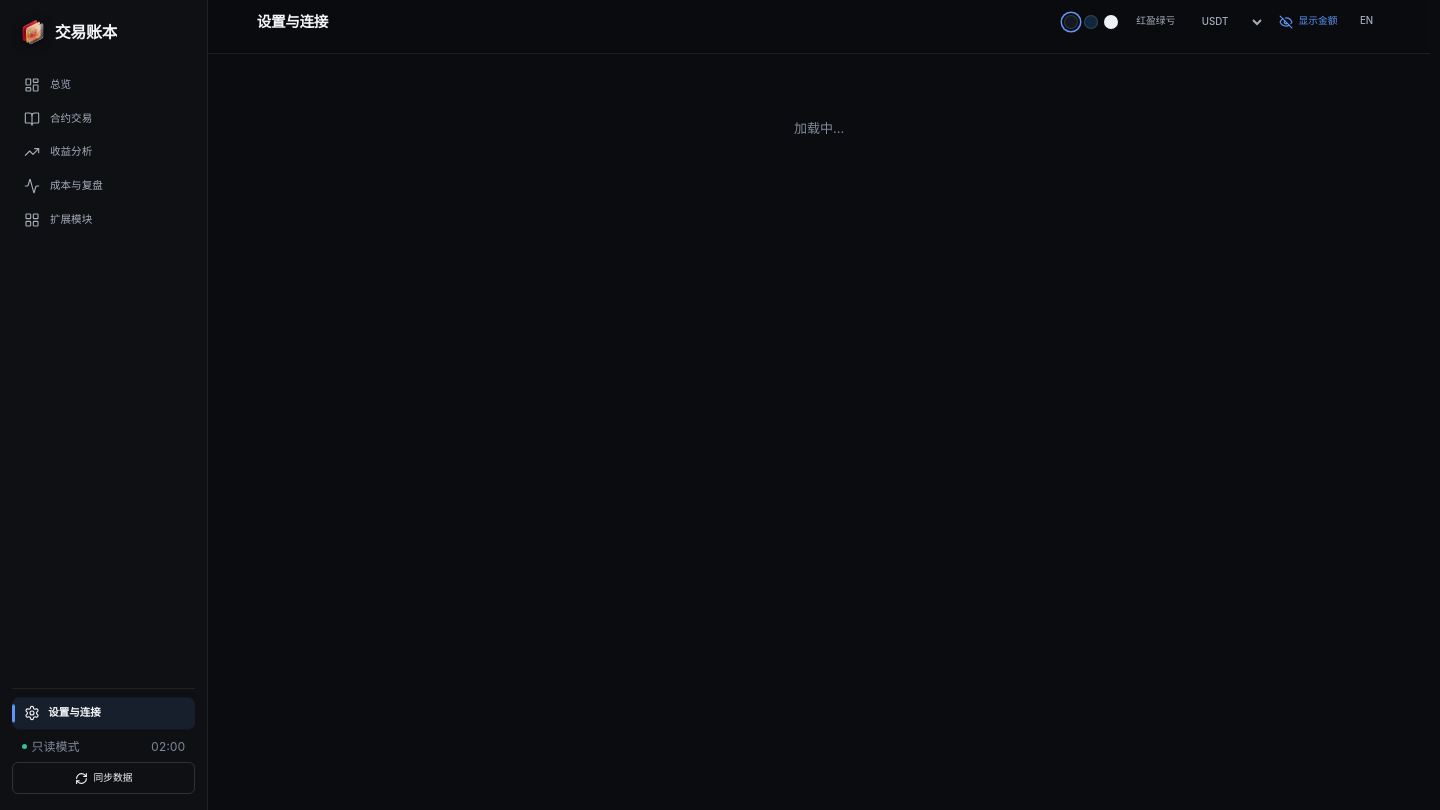
Test: State Sync, Bootstrap Recovery, Scope Isolation & Journal Concurrency › 1a. recovers from partial bootstrap failure (getSettings 503) and still renders SettingsPage when !data
Earlier steps of the test are not shown.
Later steps or results of the test are not shown.
Click the button with test id "nav-overview": (104, 85) [12, 69, 195, 101]
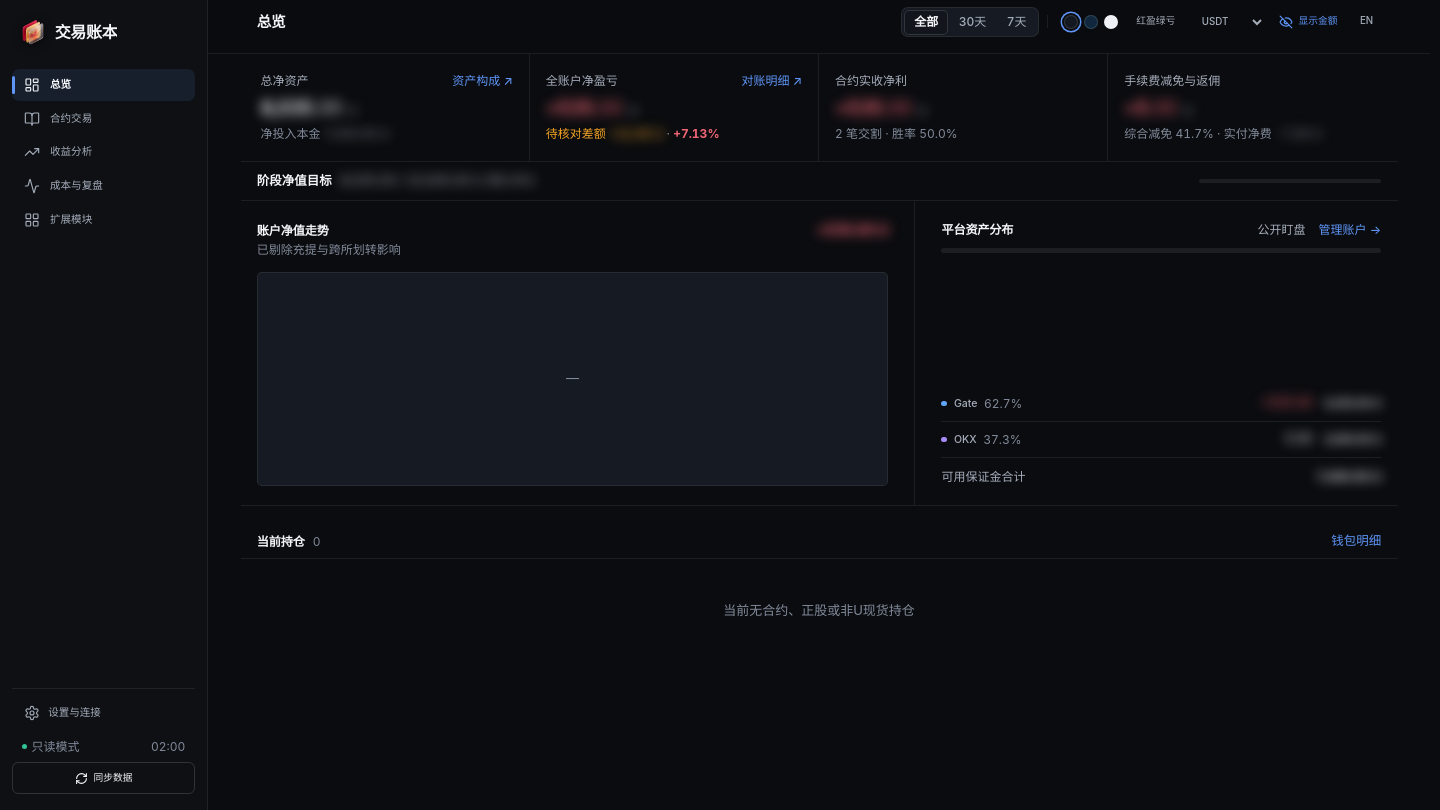
Check: the element with test id "overview-page" is shown
